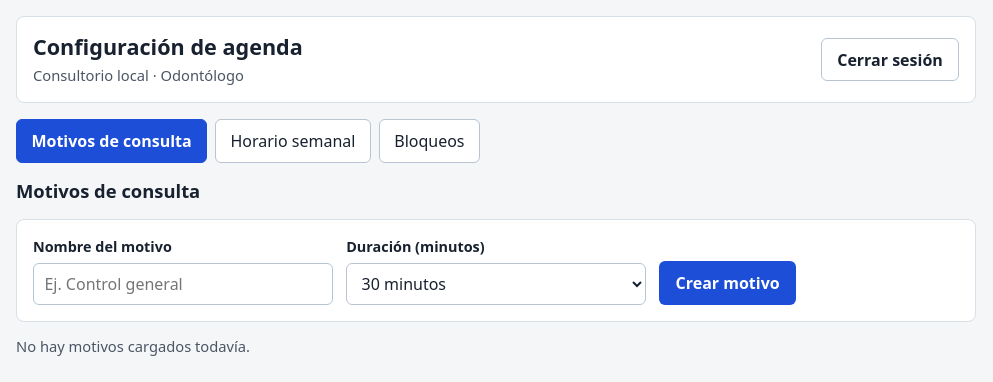
Scenario: App - flujo de sesion › muestra configuracion cuando la sesion esta activa y permite cerrar sesion
Expected: the tab "Motivos de consulta" is shown, x1=16 y1=119 x2=207 y2=163
Expected: the tab "Horario semanal" is shown, x1=215 y1=119 x2=371 y2=163
Click the button "Cerrar sesión": (890, 60) x1=821 y1=38 x2=959 y2=81
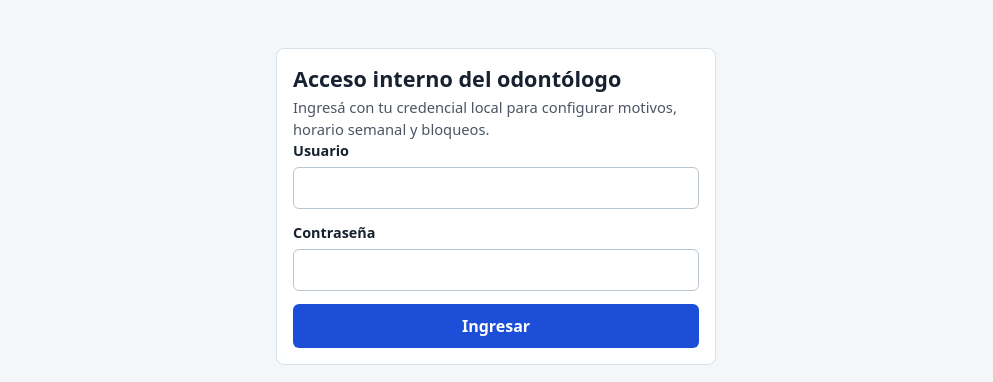
Expected: the button "Ingresar" is shown, x1=293 y1=304 x2=699 y2=348
